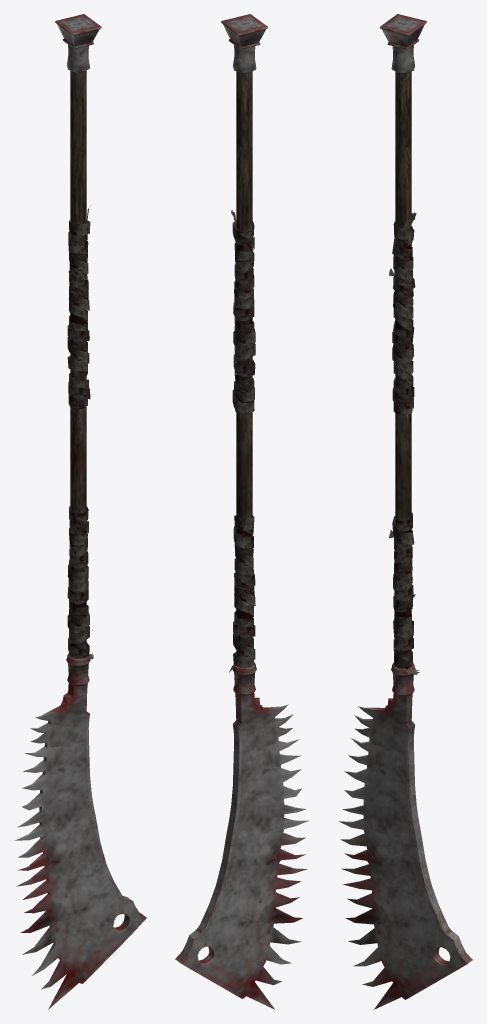
The model's file is weapon-wp_a_1009.glb.
3 renders of one model, left to right at view 1: azimuth 30°, elevation 25°; view 2: azimuth 210°, elevation 25°; view 3: azimuth 330°, elevation 25°, orthographic.
Visible parts, largest first — view 1: wp_a_1009_mesh; view 2: wp_a_1009_mesh; view 3: wp_a_1009_mesh.
Boxes of the visible parts, x1,y1,x2,y2 form: wp_a_1009_mesh: (14, 14, 146, 1009); wp_a_1009_mesh: (175, 14, 308, 1009); wp_a_1009_mesh: (339, 14, 472, 1009).
Bounding box in the file's own units: 0.2805 × 2.02 × 0.0661.
Materials: 2 (2 with a texture image).
